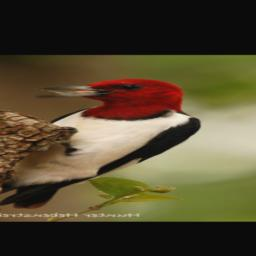Woodpecker: (0, 78, 203, 209)
